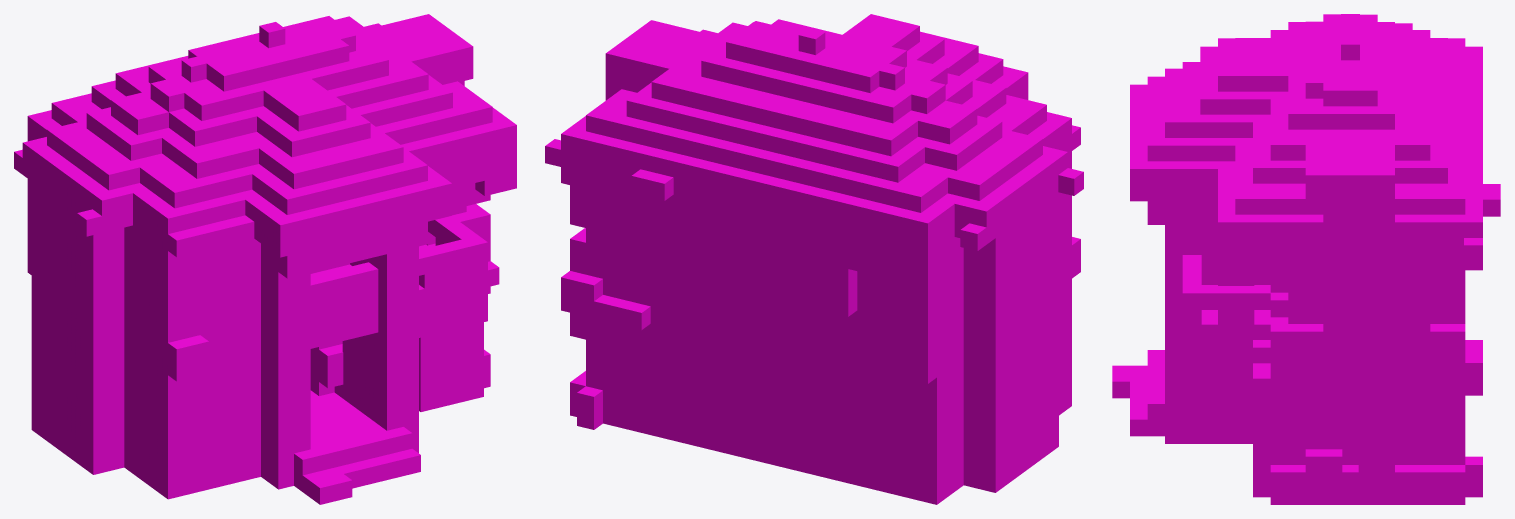
3 renders of one model, left to right at view 1: azimuth 30°, elevation 25°; view 2: azimuth 150°, elevation 25°; view 3: azimuth 270°, elevation 25°, orthographic. The views are drawn at different scales.
Parts seen in each view (by area): view 1: col_block_04, col_block_43, col_block_19, col_block_70, col_roof_83, col_column_05, col_column_13, col_column_01, col_column_10, col_column_21, col_block_16, col_block_01 (+93 smaller); view 2: col_block_02, col_block_17, col_block_20, col_block_21, col_block_07, col_block_06, col_block_05, col_block_01, col_block_16, col_block_40, col_wall_33, col_block_22 (+73 smaller); view 3: col_wall_14, col_wall_13, col_block_31, col_roof_18, col_floor_12, col_column_35, col_floor_13, col_wall_04, col_column_20, col_column_07, col_column_09, col_block_14 (+99 smaller).
Boxes of the visible parts, left/top/right/bottom form: col_block_04: left=124, top=390, right=246, bottom=499; col_block_43: left=124, top=233, right=246, bottom=343; col_block_19: left=124, top=312, right=246, bottom=420; col_block_70: left=124, top=183, right=246, bottom=266; col_roof_83: left=188, top=33, right=302, bottom=91; col_column_05: left=261, top=367, right=310, bottom=457; col_column_13: left=261, top=289, right=310, bottom=380; col_column_01: left=76, top=384, right=124, bottom=474; col_column_10: left=75, top=306, right=124, bottom=396; col_column_21: left=75, top=229, right=124, bottom=318; col_block_16: left=31, top=274, right=75, bottom=383; col_block_01: left=31, top=352, right=75, bottom=461; col_block_02: left=856, top=404, right=963, bottom=504; col_block_17: left=856, top=324, right=963, bottom=424; col_block_20: left=776, top=305, right=857, bottom=405; col_block_21: left=697, top=286, right=777, bottom=385; col_block_07: left=617, top=347, right=697, bottom=446; col_block_06: left=697, top=366, right=777, bottom=465; col_block_05: left=776, top=385, right=855, bottom=484; col_block_01: left=963, top=380, right=1040, bottom=492; col_block_16: left=963, top=300, right=1040, bottom=412; col_block_40: left=963, top=220, right=1040, bottom=333; col_wall_33: left=720, top=166, right=809, bottom=256; col_block_22: left=617, top=266, right=698, bottom=366; col_wall_14: left=1270, top=324, right=1324, bottom=410; col_wall_13: left=1411, top=347, right=1465, bottom=426; col_block_31: left=1182, top=310, right=1254, bottom=372; col_roof_18: left=1130, top=161, right=1219, bottom=201; col_floor_12: left=1376, top=465, right=1465, bottom=504; col_column_35: left=1288, top=214, right=1324, bottom=301; col_floor_13: left=1288, top=465, right=1377, bottom=504; col_wall_04: left=1253, top=418, right=1307, bottom=497; col_column_20: left=1323, top=284, right=1359, bottom=364; col_column_07: left=1358, top=394, right=1394, bottom=473; col_column_09: left=1323, top=363, right=1359, bottom=442; col_block_14: left=1182, top=372, right=1252, bottom=412.
Bounding box in the file's own units: 1.06 × 0.9062 × 0.8467.
